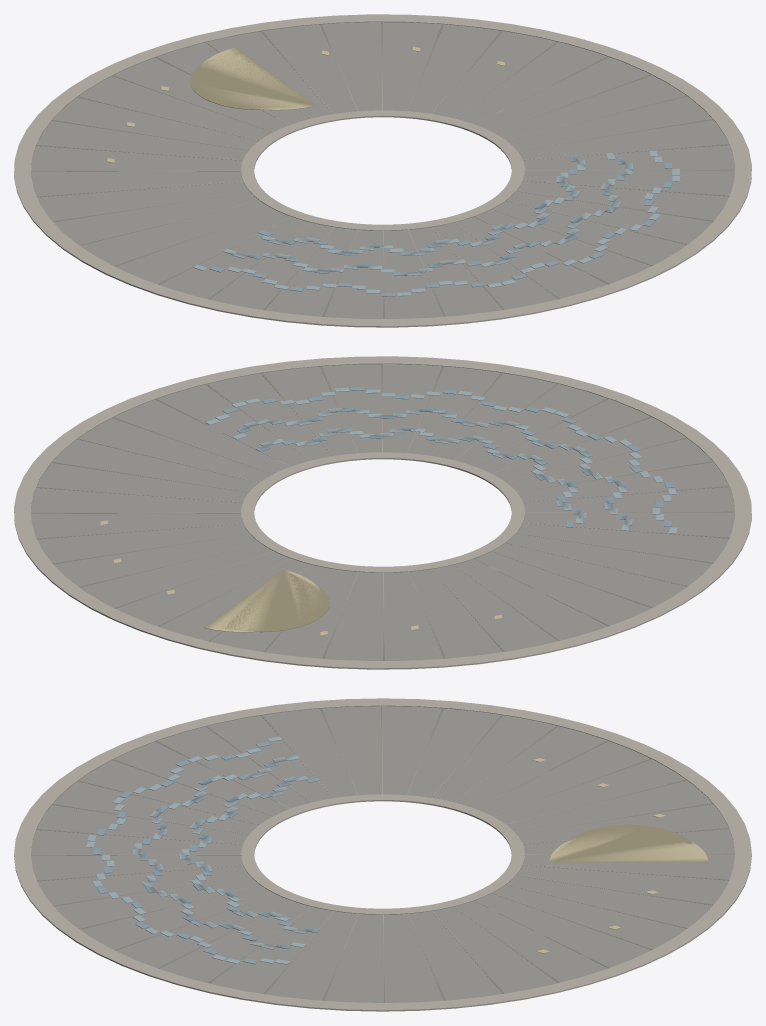
The model's file is plaza_medallion.glb.
The picture shows the model from 3 angles, top to bottom: view 1: azimuth 30°, elevation 25°; view 2: azimuth 150°, elevation 25°; view 3: azimuth 270°, elevation 25°; orthographic projection.
Bounding box in the file's own units: 19.5 × 0.0399 × 19.5.
